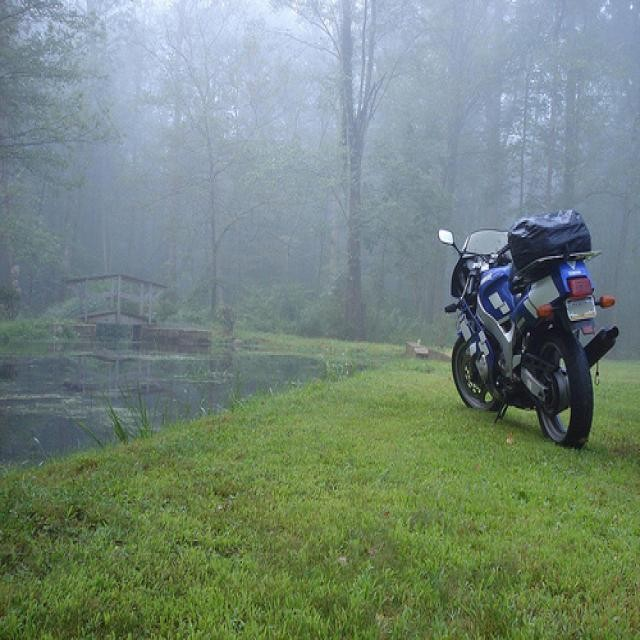motorcycle: (442, 219, 617, 449)
